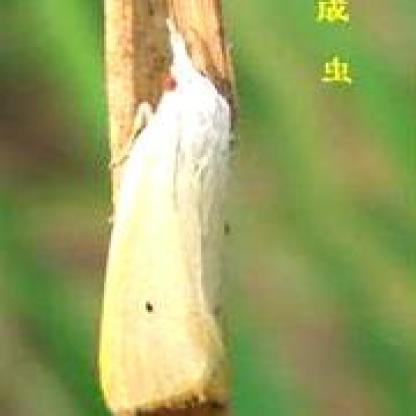stem-borer: (97, 13, 235, 416)
